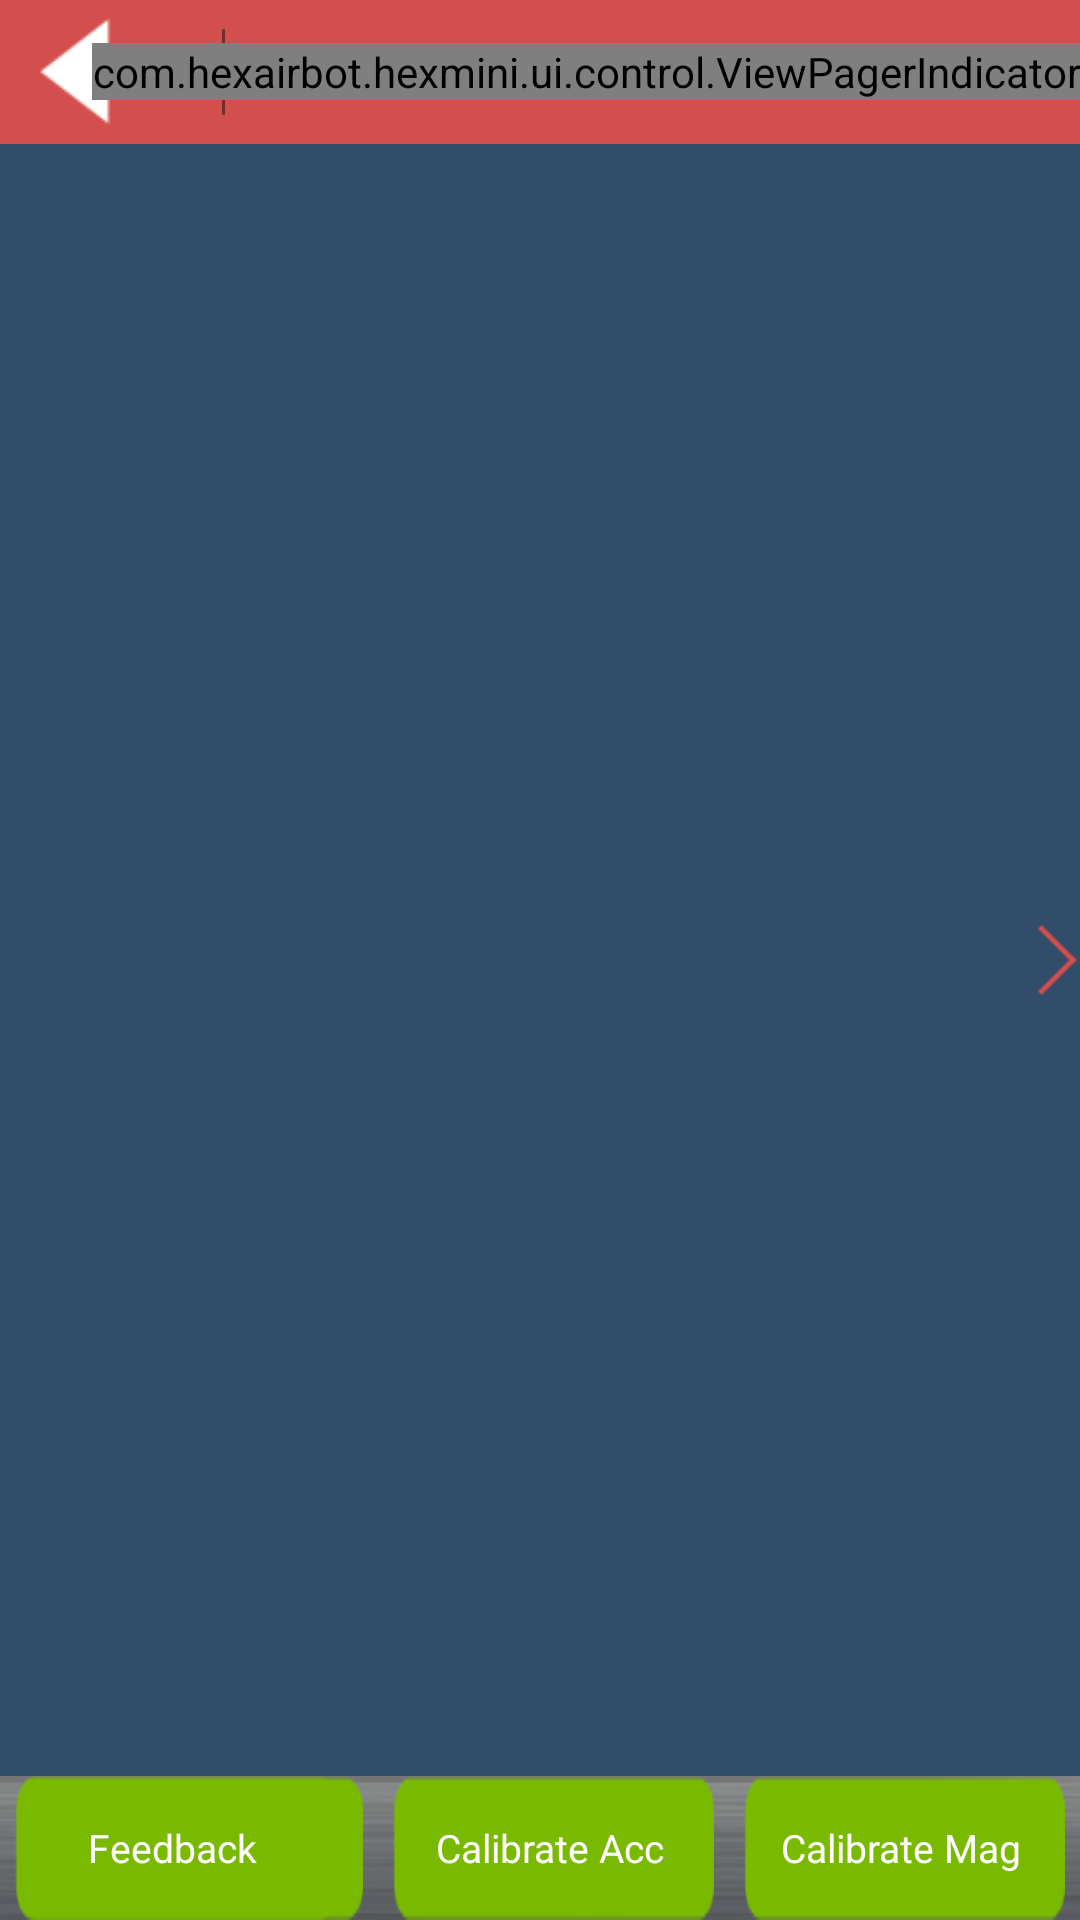

Point at icon controls on the screen. Image size 1080×1920, points as (x,y).
arrow right: (1057,960)
